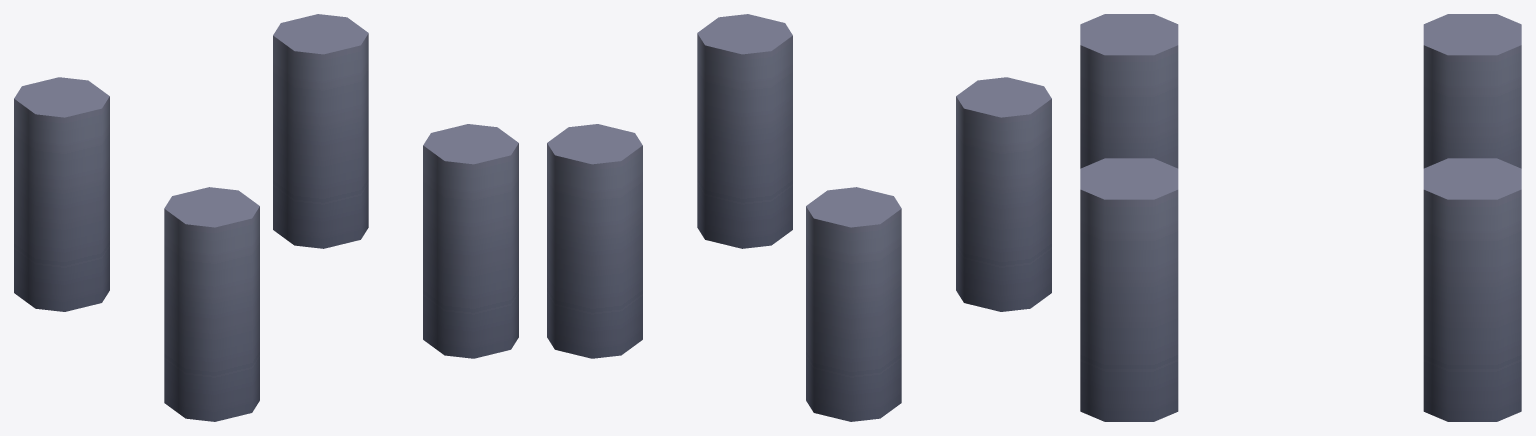
File: support-four-middle.glb
3 views of the same model, side by side, from view 1: azimuth 30°, elevation 25°; view 2: azimuth 150°, elevation 25°; view 3: azimuth 270°, elevation 25° (orthographic). The views are drawn at different scales.
Parts seen in each view (by area): view 1: support-four-middle; view 2: support-four-middle; view 3: support-four-middle.
Boxes of the visible parts, <box> form: support-four-middle: <box>14,14,518,421</box>; support-four-middle: <box>547,14,1051,421</box>; support-four-middle: <box>1080,14,1521,421</box>.
Bounding box in the file's own units: 0.8969 × 0.5001 × 0.9.
1 material, 1 textured.
